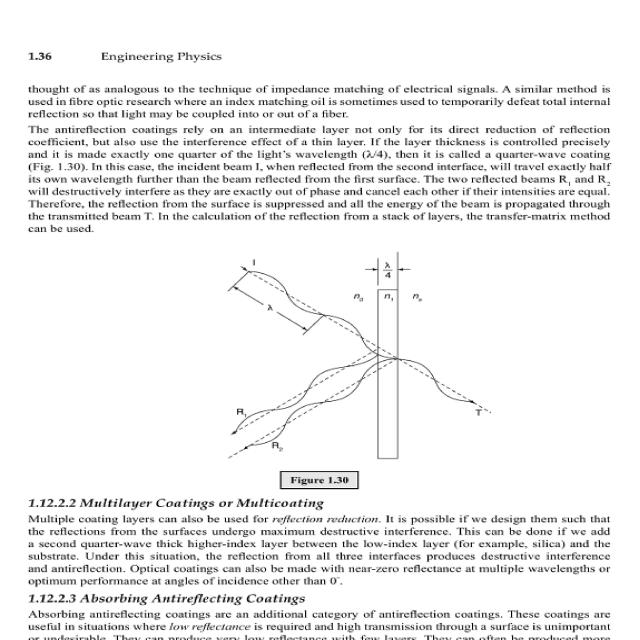diagram: (127, 234, 530, 489)
